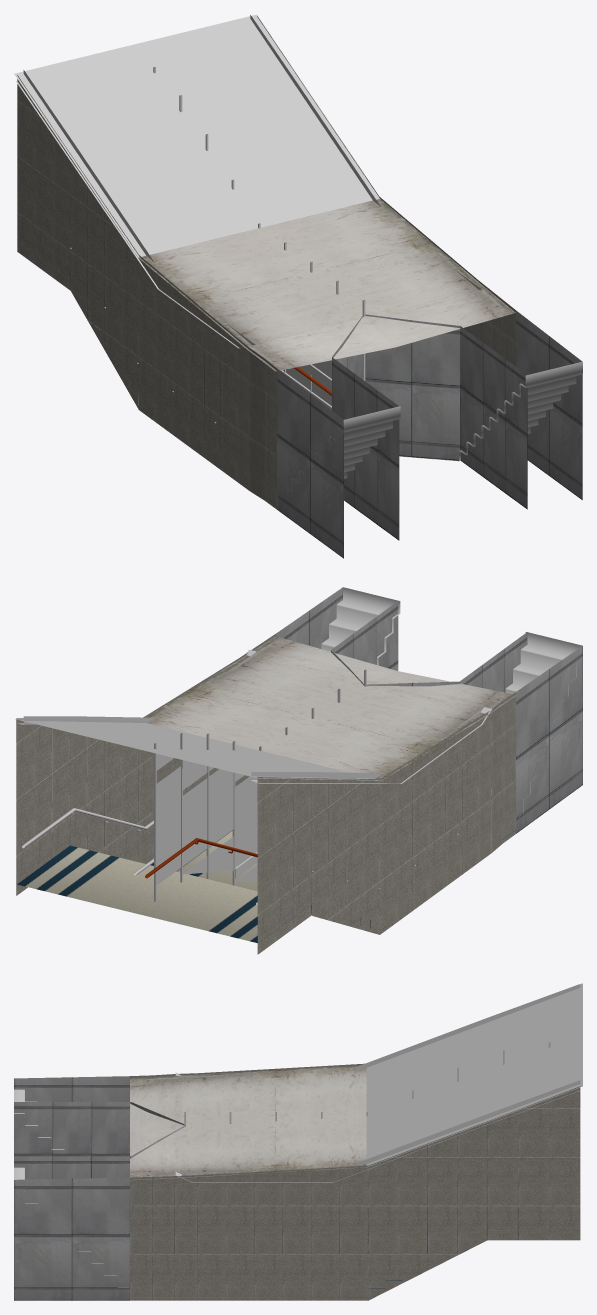
File: pasillo.FBX
The picture shows the model from 3 angles, top to bottom: view 1: azimuth 30°, elevation 25°; view 2: azimuth 150°, elevation 25°; view 3: azimuth 270°, elevation 25°; orthographic projection. The views are drawn at different scales.
Parts seen in each view (by area): view 1: pasillo; view 2: pasillo; view 3: pasillo.
Boxes of the visible parts, x1,y1,x2,y2 form: pasillo: (14, 14, 582, 558); pasillo: (15, 587, 582, 954); pasillo: (14, 983, 582, 1300).
Size of the model in its own units: 569 by 578 by 1326.
